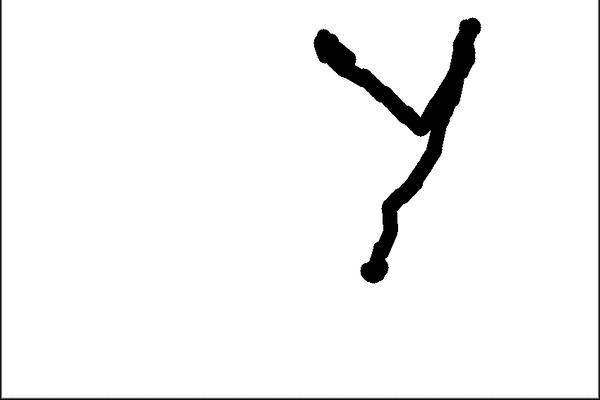Y: (298, 10, 491, 292)
